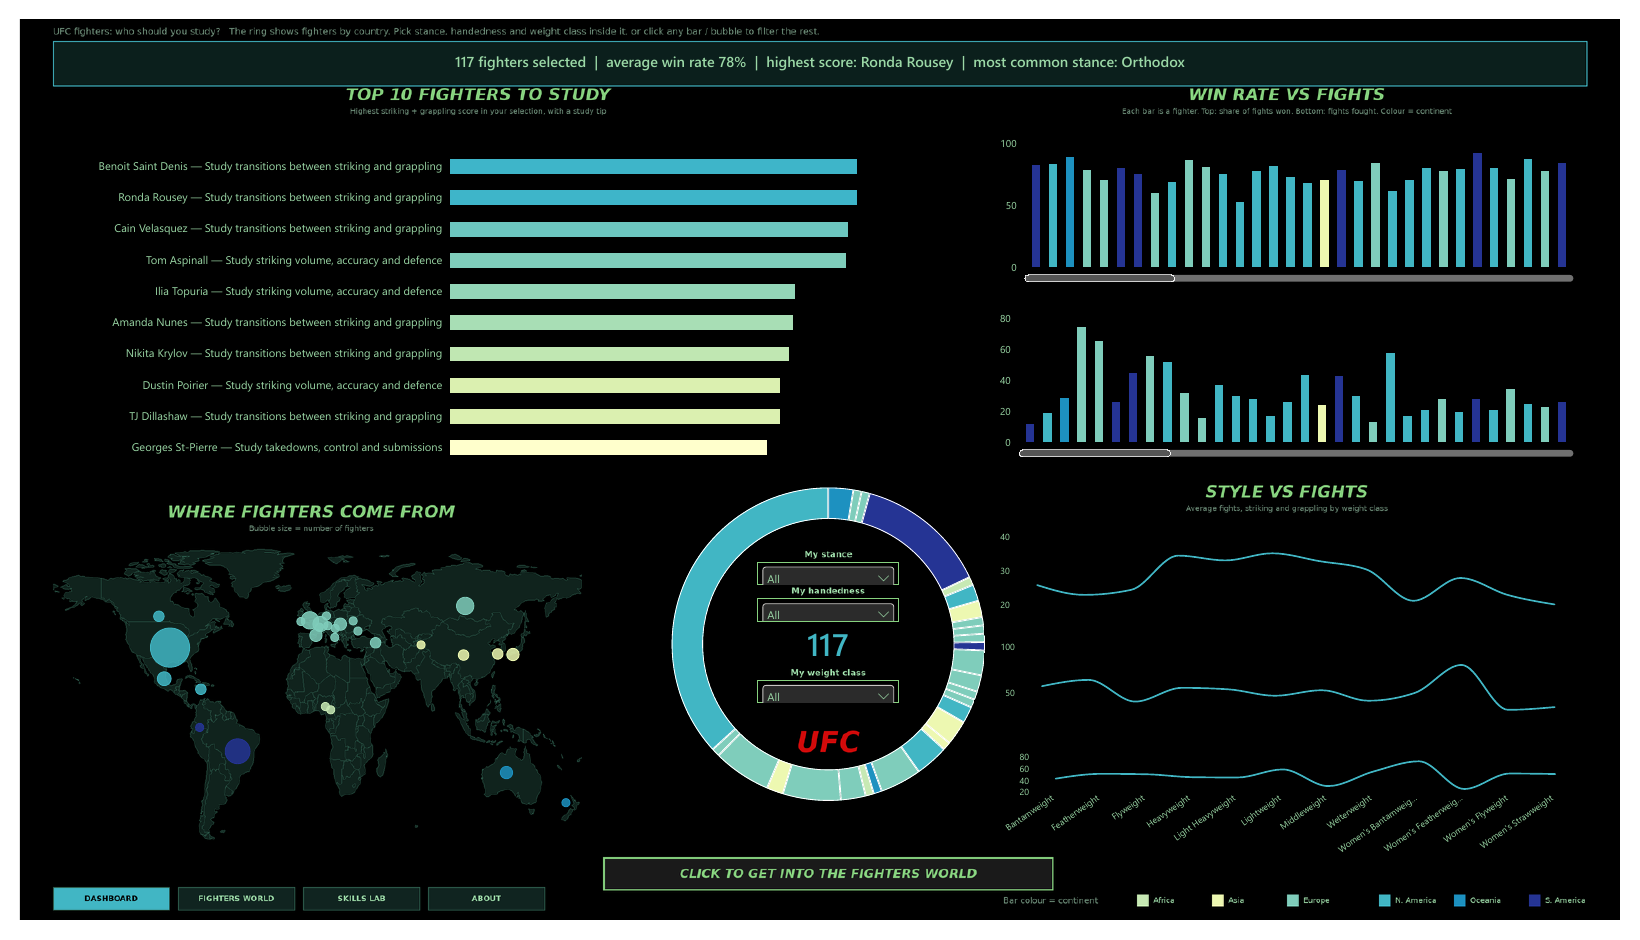

The dashboard page shown, as its layout file describes it:
{"tool":"powerbi","page":{"name":"Dashboard","canvas":[1920,1080],"ordinal":0},"visuals":[{"type":"barChart","fields":{"Category":["fighters.Tip Label"],"Y":["fighters.Total Score"]},"box":[40,130,1020,424],"z":1010},{"type":"columnChart","fields":{"Category":["fighters.fighter_name"],"Y":["fighters.Avg Win Pct"]},"box":[1160,126,720,204],"z":1020},{"type":"columnChart","fields":{"Category":["fighters.fighter_name"],"Y":["fighters.Avg Fights"]},"box":[1160,336,720,204],"z":1030},{"type":"scatterChart","fields":{"Category":["fighters.country"],"Series":["fighters.continent"],"X":["fighters.Map Lon"],"Y":["fighters.Map Lat"],"Size":["fighters.Fighter Count"]},"box":[40,626,640,374],"z":1040},{"type":"donutChart","fields":{"Category":["fighters.country"],"Y":["fighters.Fighter Count"]},"box":[650,500,640,500],"z":1050},{"type":"lineChart","fields":{"Category":["fighters.weight_class"],"Y":["fighters.Avg Fights"]},"box":[1160,598,720,128],"z":1090},{"type":"lineChart","fields":{"Category":["fighters.weight_class"],"Y":["fighters.Avg Striking Index"]},"box":[1160,730,720,128],"z":1100},{"type":"lineChart","fields":{"Category":["fighters.weight_class"],"Y":["fighters.Avg Grappling Index"]},"box":[1160,862,720,160],"z":1110},{"type":"card","fields":{"Values":["fighters.Insight Text"]},"box":[50,26,1820,54],"z":1120},{"type":"slicer","fields":{"Values":["fighters.stance"]},"box":[885,650,170,28],"z":7005},{"type":"slicer","fields":{"Values":["fighters.hand"]},"box":[885,694,170,28],"z":7006},{"type":"slicer","fields":{"Values":["fighters.weight_class"]},"box":[885,792,170,28],"z":7007},{"type":"actionButton","box":[700,1004,540,40],"z":9012},{"type":"actionButton","box":[40,1040,140,28],"z":9013},{"type":"actionButton","box":[190,1040,140,28],"z":9014},{"type":"actionButton","box":[340,1040,140,28],"z":9015},{"type":"actionButton","box":[490,1040,140,28],"z":9016}]}

Visuals, with their boxes in screenshot pixels (x1, y1, x2, y2), scaled from the page's 1920x1080 canvas onto the 1640x940 screenshot:
barChart - fighters.Tip Label x fighters.Total Score: Rect(34, 113, 905, 482)
columnChart - fighters.fighter_name x fighters.Avg Win Pct: Rect(991, 110, 1606, 287)
columnChart - fighters.fighter_name x fighters.Avg Fights: Rect(991, 292, 1606, 470)
scatterChart - fighters.country x fighters.continent: Rect(34, 545, 581, 870)
donutChart - fighters.country x fighters.Fighter Count: Rect(555, 435, 1102, 870)
lineChart - fighters.weight_class x fighters.Avg Fights: Rect(991, 520, 1606, 632)
lineChart - fighters.weight_class x fighters.Avg Striking Index: Rect(991, 635, 1606, 747)
lineChart - fighters.weight_class x fighters.Avg Grappling Index: Rect(991, 750, 1606, 890)
card - fighters.Insight Text: Rect(43, 23, 1597, 70)
slicer - fighters.stance: Rect(756, 566, 901, 590)
slicer - fighters.hand: Rect(756, 604, 901, 628)
slicer - fighters.weight_class: Rect(756, 689, 901, 714)
actionButton: Rect(598, 874, 1059, 909)
actionButton: Rect(34, 905, 154, 930)
actionButton: Rect(162, 905, 282, 930)
actionButton: Rect(290, 905, 410, 930)
actionButton: Rect(419, 905, 538, 930)
